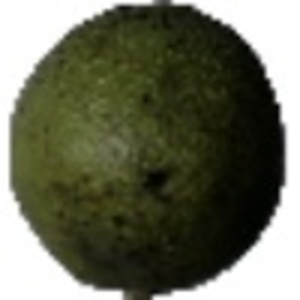abacate: (5, 2, 286, 292)
